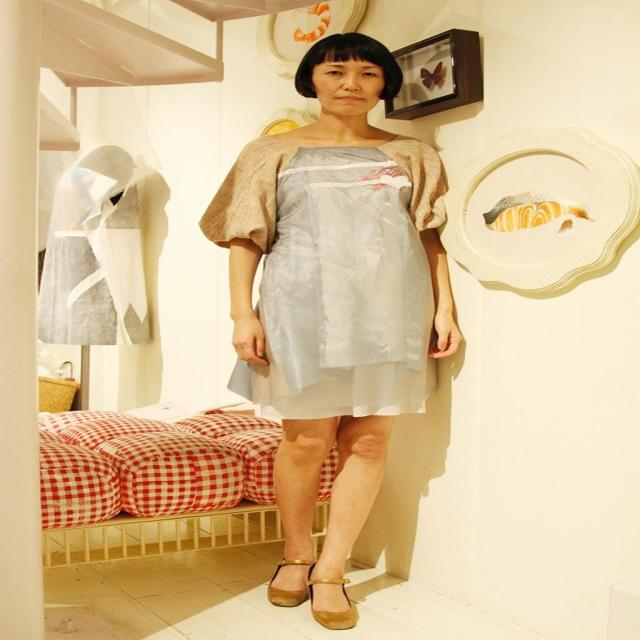Face: (306, 50, 384, 119)
